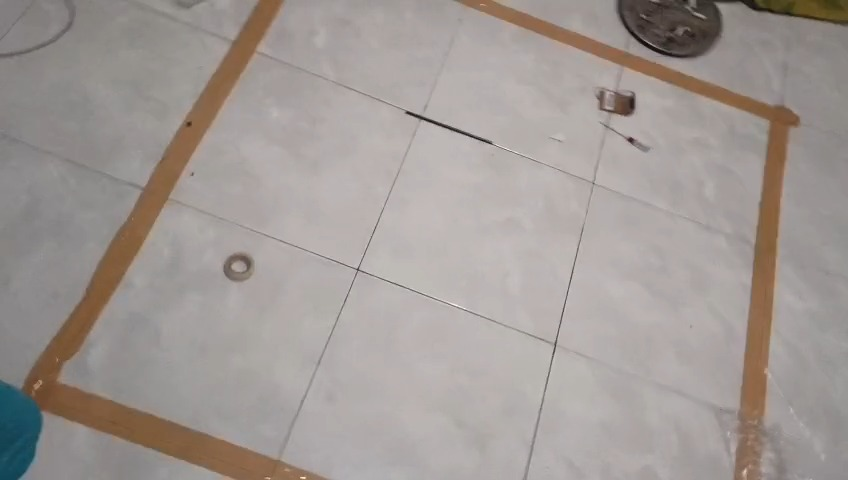floor marking: (24, 0, 320, 479), (461, 1, 799, 417)
